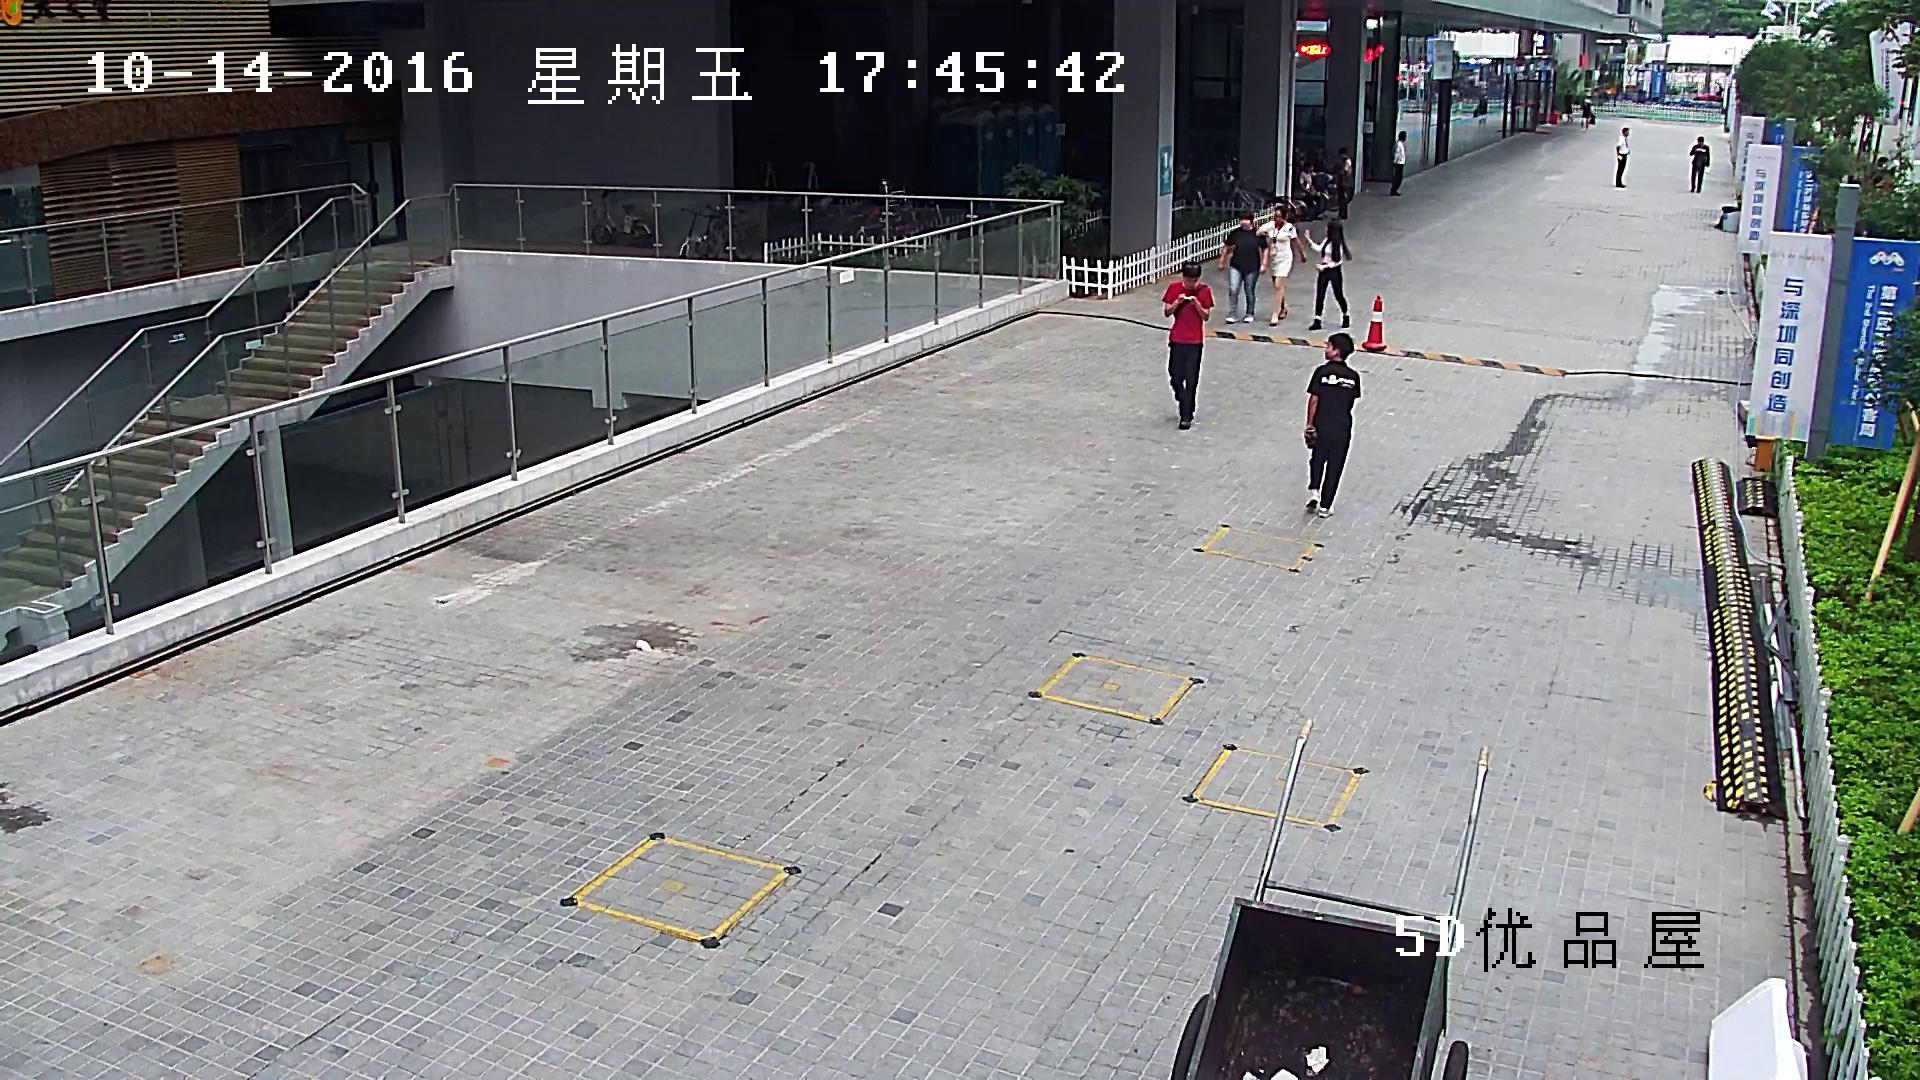person: (1307, 333, 1361, 517), (1162, 261, 1214, 429), (1256, 205, 1307, 326), (1218, 211, 1269, 324), (1304, 221, 1352, 329), (1332, 147, 1352, 220), (1689, 136, 1709, 194), (1390, 131, 1406, 195), (1616, 126, 1630, 187), (1581, 96, 1591, 130), (1300, 163, 1313, 190), (1715, 78, 1724, 94)
